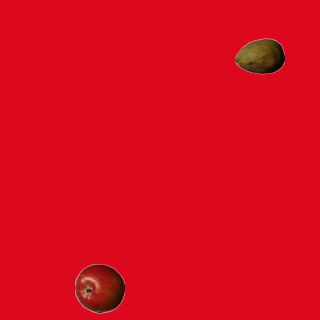Apple Braeburn: (74, 263, 124, 313)
Papaya: (234, 31, 284, 81)
